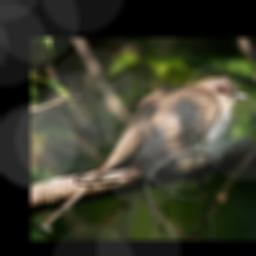Cuckoo: (40, 74, 253, 230)
